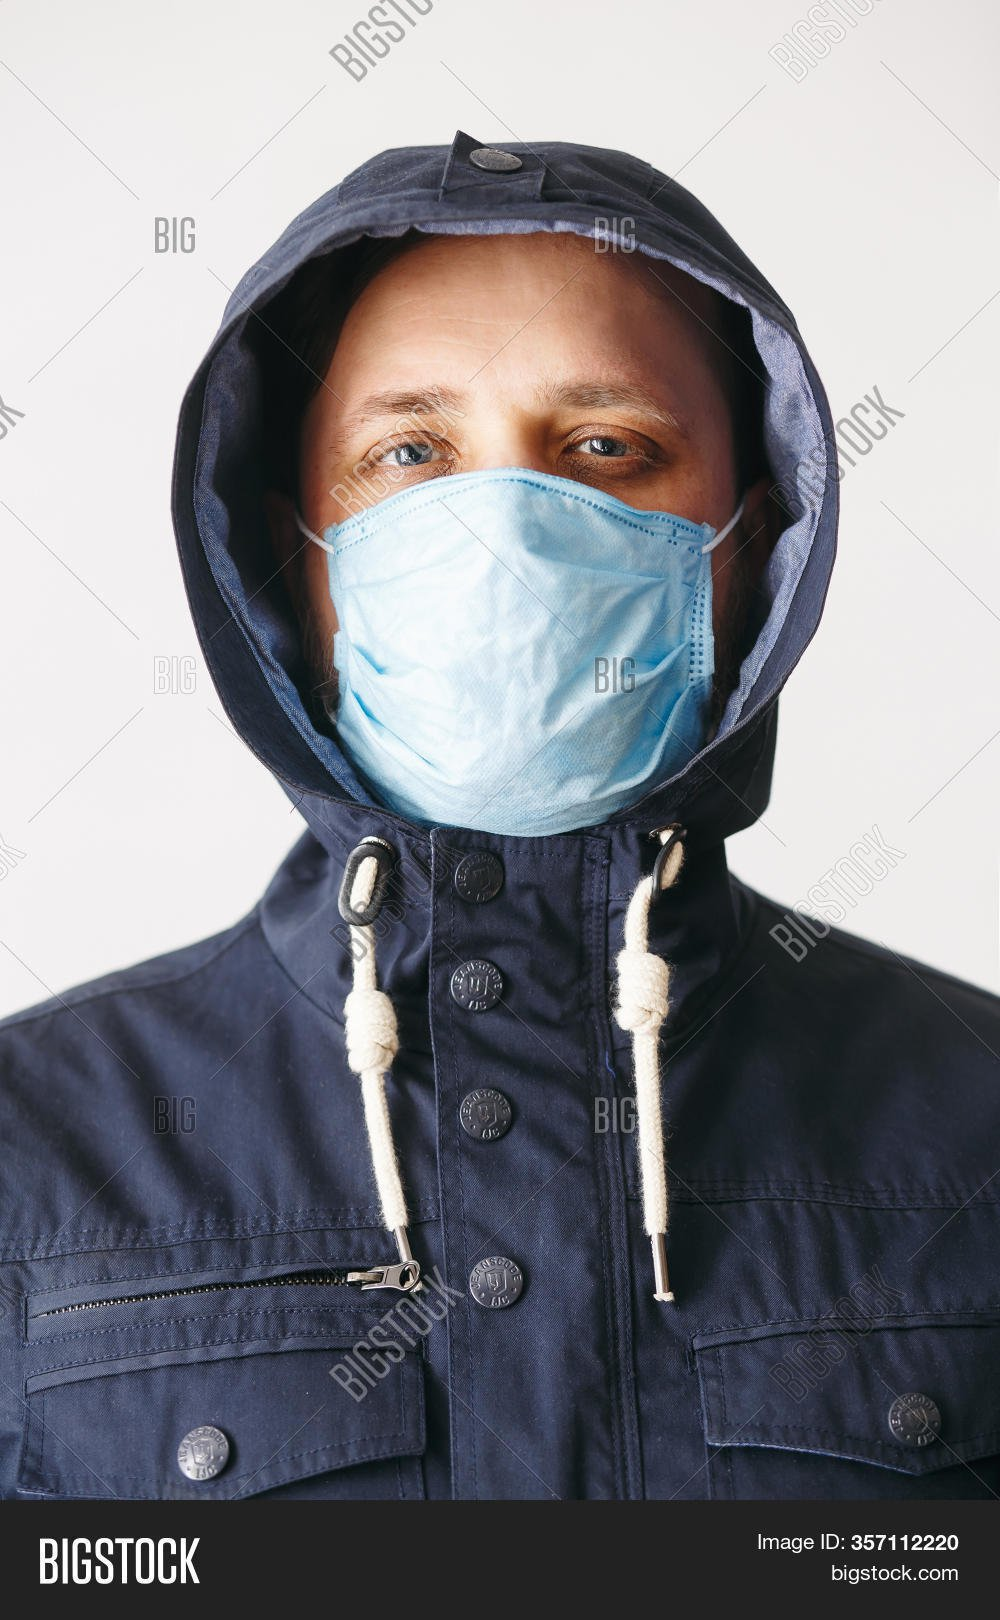mask: (144, 109, 928, 861)
